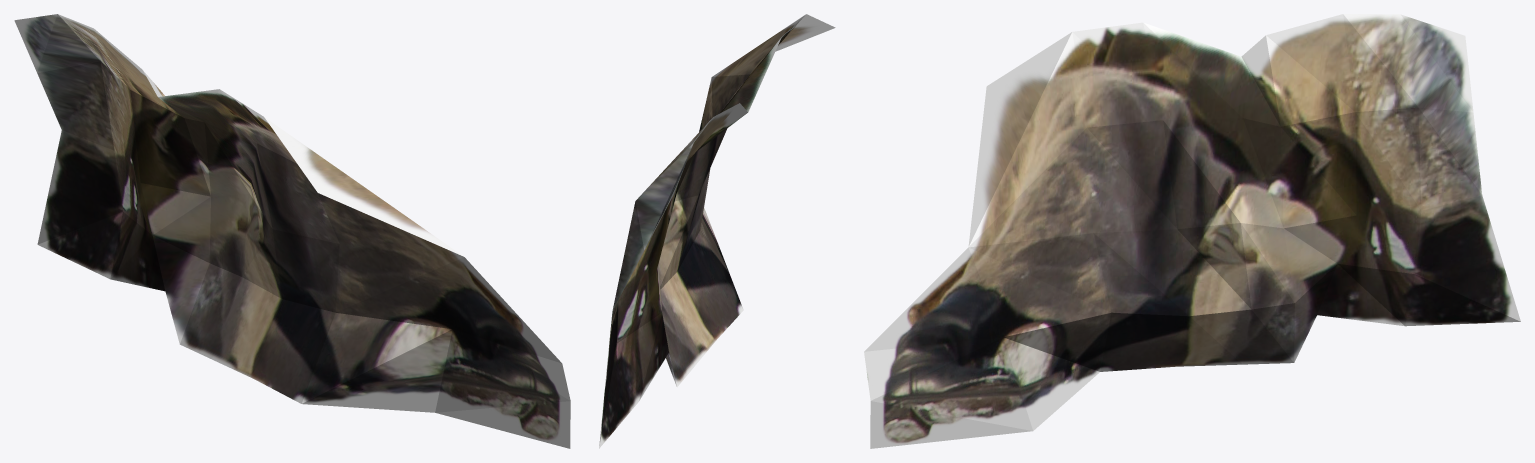
The model's file is Dead_Man_02.fbx.
The picture shows the model from 3 angles, left to right: view 1: azimuth 30°, elevation 25°; view 2: azimuth 150°, elevation 25°; view 3: azimuth 270°, elevation 25°; orthographic projection. The views are drawn at different scales.
Visible parts, largest first — view 1: Dead_Man_02; view 2: Dead_Man_02; view 3: Dead_Man_02.
Part boxes in pixels (x1,y1,x2,y2): Dead_Man_02: (14,14,570,448); Dead_Man_02: (599,14,835,448); Dead_Man_02: (864,14,1520,448).
Bounding box in the file's own units: 0.4301 × 0.5044 × 0.9139.
Materials: 1 (1 with a texture image).
